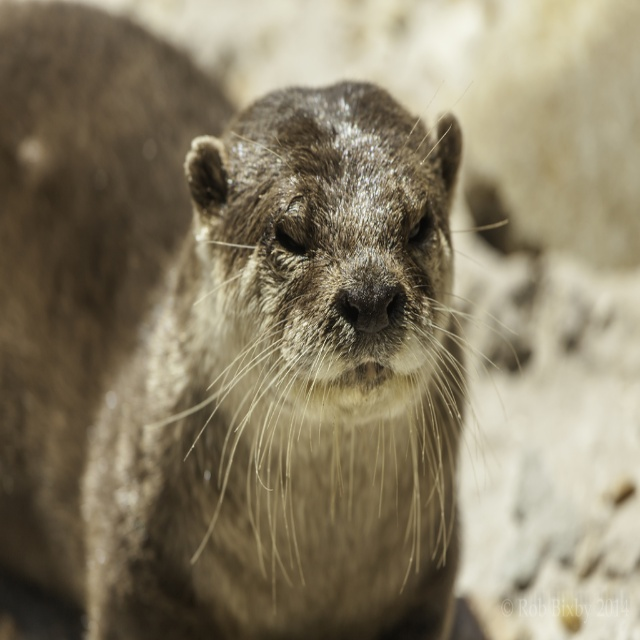Otter: (0, 0, 518, 639)
